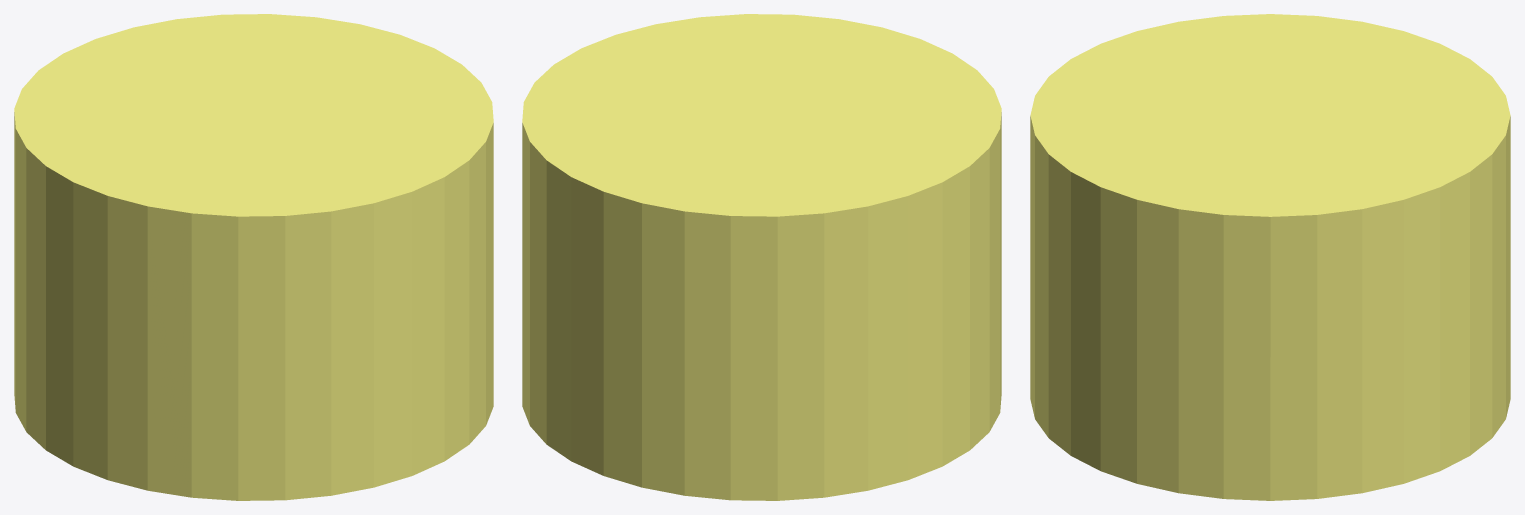
The model's file is TrafficLight_Yellow.fbx.
3 renders of one model, left to right at view 1: azimuth 30°, elevation 25°; view 2: azimuth 150°, elevation 25°; view 3: azimuth 270°, elevation 25°, orthographic.
Visible parts, largest first — view 1: TrafficLight_Yellow; view 2: TrafficLight_Yellow; view 3: TrafficLight_Yellow.
Part boxes in pixels (x1,y1,x2,y2): TrafficLight_Yellow: [14, 14, 493, 500]; TrafficLight_Yellow: [522, 14, 1001, 500]; TrafficLight_Yellow: [1030, 14, 1510, 500].
Bounding box in the file's own units: 2.2 × 1.44 × 2.2.
